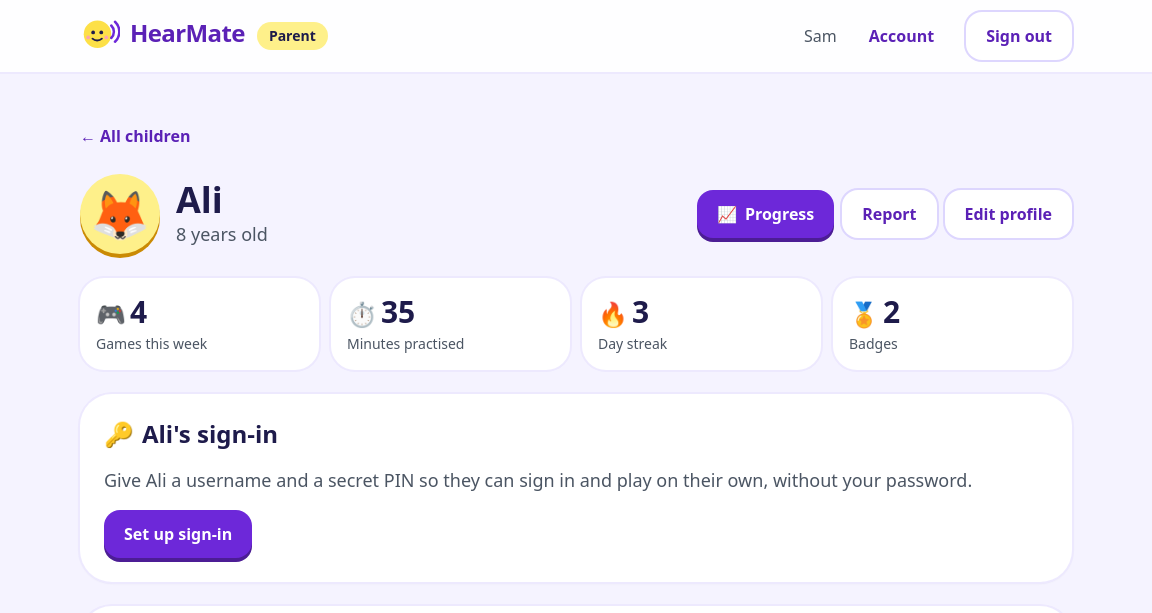
Scenario: Progress page › is reached from the child’s page
The image size is (1152, 613).
Click the link "📈 Progress" at (766, 214), box [697,190,834,238]
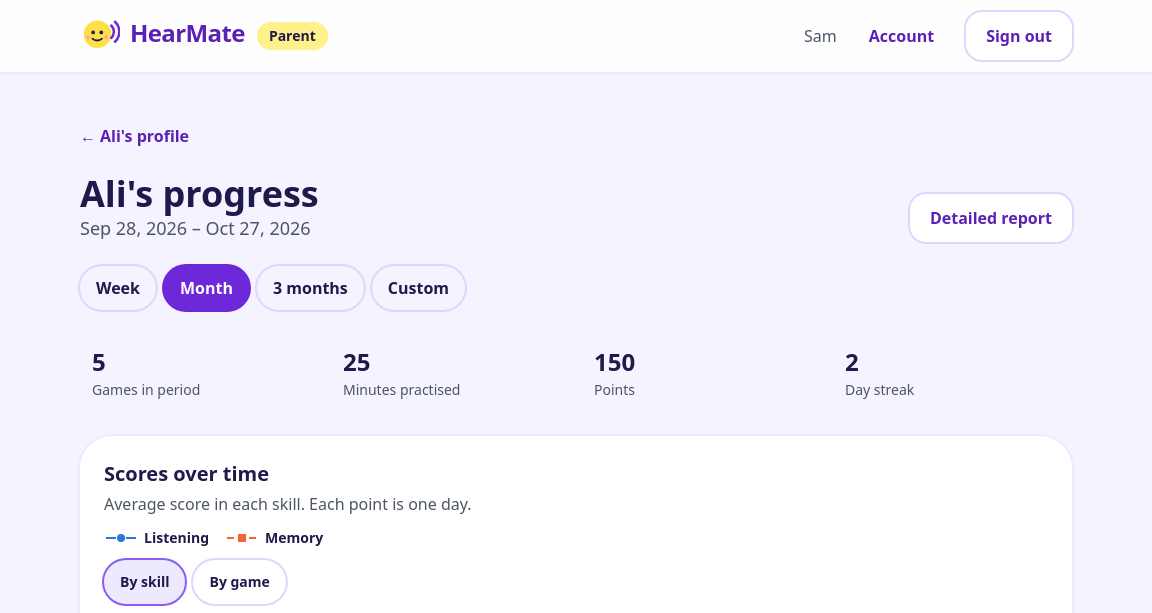
Expected: the heading "Ali's progress" is shown, [80,174,319,214]
